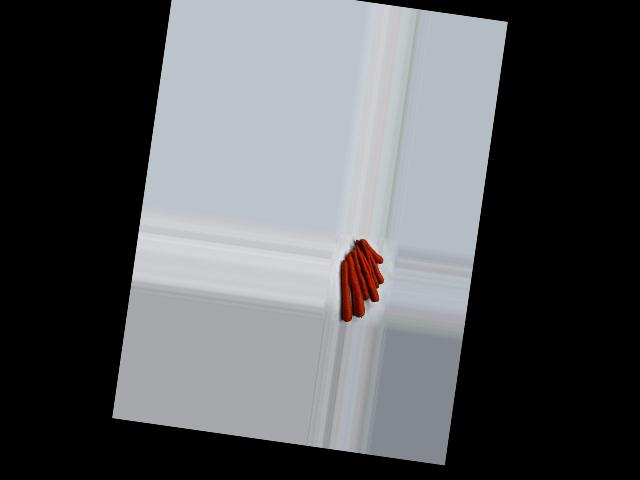carrot: (354, 236, 391, 263)
